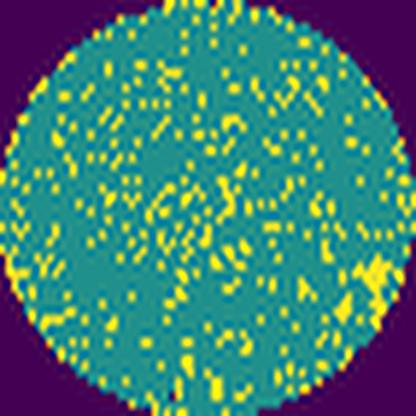Loc: (353, 254, 398, 328)
